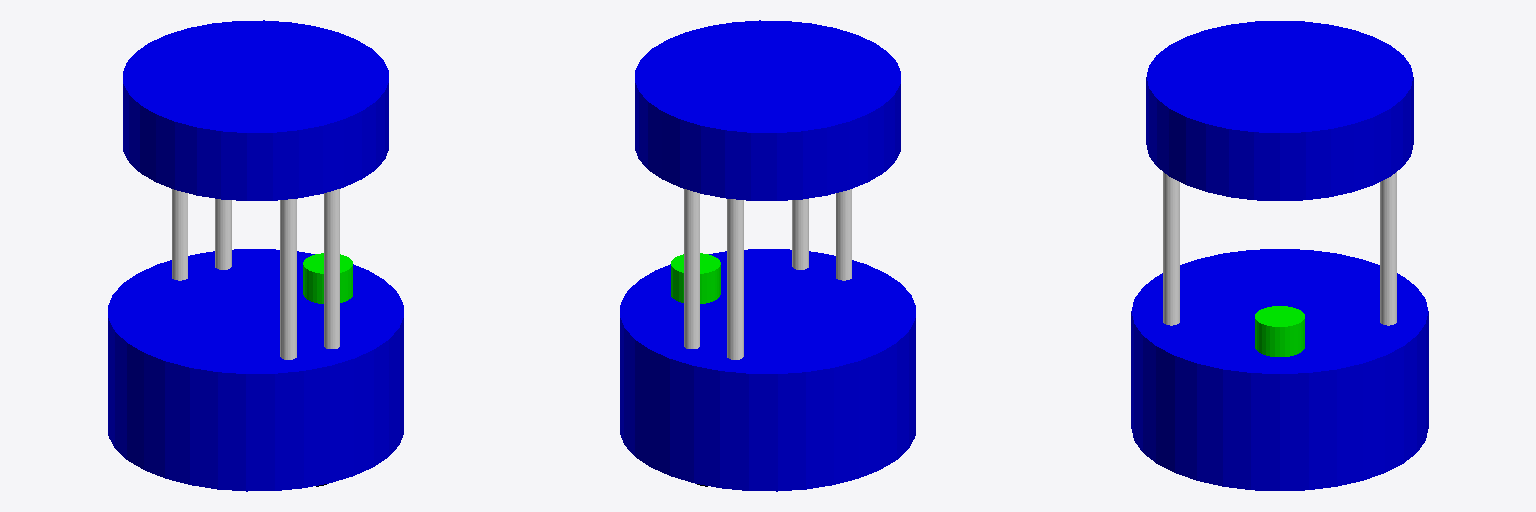
robot.urdf — barista_bot:
<?xml version="1.0" ?>
<robot name="barista_bot">
  <material name="Blue">
    <color rgba="0.0 0.0 1.0 1"/>
  </material>
  <material name="White">
    <color rgba="1 1 1 1"/>
  </material>
  <material name="Black">
    <color rgba="0 0 0 1"/>
  </material>
  <material name="Red">
    <color rgba="1 0 0 1"/>
  </material>
  <material name="Green">
    <color rgba="0 1 0 1"/>
  </material>

  <link name="base_link"/>
  <link name="base_plate_link">
    <visual>
      <geometry>
        <cylinder length="0.155" radius="0.178"/>
      </geometry>
      <material name="Blue"/>
    </visual>
    <collision>
      <geometry>
        <cylinder length="0.155" radius="0.178"/>
      </geometry>
    </collision>
    <inertial>
      <mass value="0.8"/>
      <origin rpy="0 0 0" xyz="0 0 0"/>
      <inertia ixx="0.007938466666666666" ixy="0" ixz="0" iyy="0.007938466666666666" iyz="0" izz="0.0126736"/>
    </inertial>
  </link>
  <gazebo reference="base_plate_link">
    <material>Gazebo/Blue</material>
  </gazebo>
  <joint name="base_link_joint" type="fixed">
    <origin rpy="0 0 0" xyz="0 0 0"/>
    <parent link="base_link"/>
    <child link="base_plate_link"/>
  </joint>
  <link name="standoff_rods1_link">
    <visual>
      <geometry>
        <cylinder length="0.22" radius="0.01"/>
      </geometry>
      <material name="White"/>
    </visual>
    <collision>
      <geometry>
        <cylinder length="0.22" radius="0.01"/>
      </geometry>
    </collision>
    <inertial>
      <mass value="0.1"/>
      <origin rpy="0 0 0" xyz="0 0 0"/>
      <inertia ixx="0.00040583333333333335" ixy="0" ixz="0" iyy="0.00040583333333333335" iyz="0" izz="5e-06"/>
    </inertial>
  </link>
  <gazebo reference="standoff_rods1_link">
    <material>Gazebo/White</material>
  </gazebo>
  <link name="standoff_rods2_link">
    <visual>
      <geometry>
        <cylinder length="0.22" radius="0.01"/>
      </geometry>
      <material name="White"/>
    </visual>
    <collision>
      <geometry>
        <cylinder length="0.22" radius="0.01"/>
      </geometry>
    </collision>
    <inertial>
      <mass value="0.1"/>
      <origin rpy="0 0 0" xyz="0 0 0"/>
      <inertia ixx="0.00040583333333333335" ixy="0" ixz="0" iyy="0.00040583333333333335" iyz="0" izz="5e-06"/>
    </inertial>
  </link>
  <gazebo reference="standoff_rods2_link">
    <material>Gazebo/White</material>
  </gazebo>
  <link name="standoff_rods3_link">
    <visual>
      <geometry>
        <cylinder length="0.22" radius="0.01"/>
      </geometry>
      <material name="White"/>
    </visual>
    <collision>
      <geometry>
        <cylinder length="0.22" radius="0.01"/>
      </geometry>
    </collision>
    <inertial>
      <mass value="0.1"/>
      <origin rpy="0 0 0" xyz="0 0 0"/>
      <inertia ixx="0.00040583333333333335" ixy="0" ixz="0" iyy="0.00040583333333333335" iyz="0" izz="5e-06"/>
    </inertial>
  </link>
  <gazebo reference="standoff_rods3_link">
    <material>Gazebo/White</material>
  </gazebo>
  <link name="standoff_rods4_link">
    <visual>
      <geometry>
        <cylinder length="0.22" radius="0.01"/>
      </geometry>
      <material name="White"/>
    </visual>
    <collision>
      <geometry>
        <cylinder length="0.22" radius="0.01"/>
      </geometry>
    </collision>
    <inertial>
      <mass value="0.1"/>
      <origin rpy="0 0 0" xyz="0 0 0"/>
      <inertia ixx="0.00040583333333333335" ixy="0" ixz="0" iyy="0.00040583333333333335" iyz="0" izz="5e-06"/>
    </inertial>
  </link>
  <gazebo reference="standoff_rods4_link">
    <material>Gazebo/White</material>
  </gazebo>
  <!-- Standoff Rods Joints-->
  <joint name="standoff_rods1_joint" type="fixed">
    <origin rpy="0 0 0" xyz="0.03 0.13 0.1875"/>
    <parent link="base_plate_link"/>
    <child link="standoff_rods1_link"/>
  </joint>
  <joint name="standoff_rods2_joint" type="fixed">
    <origin rpy="0 0 0" xyz="-0.03 0.13 0.1875"/>
    <parent link="base_plate_link"/>
    <child link="standoff_rods2_link"/>
  </joint>
  <joint name="standoff_rods3_joint" type="fixed">
    <origin rpy="0 0 0" xyz="-0.03 -0.13 0.1875"/>
    <parent link="base_plate_link"/>
    <child link="standoff_rods3_link"/>
  </joint>
  <joint name="standoff_rods4_joint" type="fixed">
    <origin rpy="0 0 0" xyz="0.03 -0.13 0.1875"/>
    <parent link="base_plate_link"/>
    <child link="standoff_rods4_link"/>
  </joint>

  <link name="cup_holder_tray_link">
    <visual>
      <geometry>
        <cylinder length="0.09" radius="0.16"/>
      </geometry>
      <material name="Blue"/>
    </visual>
    <collision>
      <geometry>
        <cylinder length="0.09" radius="0.16"/>
      </geometry>
    </collision>
    <inertial>
      <mass value="0.05"/>
      <origin rpy="0 0 0" xyz="0 0 0"/>
      <inertia ixx="0.00035375" ixy="0" ixz="0" iyy="0.00035375" iyz="0" izz="0.00064"/>
    </inertial>
  </link>
  <gazebo reference="cup_holder_tray_link">
    <material>Gazebo/Blue</material>
  </gazebo>
  <joint name="cup_holder_tray_joint" type="fixed">
    <origin rpy="0 0 0" xyz="0 0 0.3425"/>
    <parent link="base_plate_link"/>
    <child link="cup_holder_tray_link"/>
  </joint>
  <!-- Two wheels -->
  <link name="left_wheel_link">
    <visual>
      <geometry>
        <cylinder length="0.0206" radius="0.0352"/>
      </geometry>
      <material name="Black"/>
    </visual>
    <collision>
      <geometry>
        <cylinder length="0.0206" radius="0.0352"/>
      </geometry>
    </collision>
    <inertial>
      <mass value="0.07"/>
      <origin rpy="0 0 0" xyz="0 0 0"/>
      <inertia ixx="2.4158633333333336e-05" ixy="0" ixz="0" iyy="2.4158633333333336e-05" iyz="0" izz="4.3366400000000005e-05"/>
    </inertial>
  </link>
  <gazebo reference="left_wheel_link">
    <material>Gazebo/Black</material>
  </gazebo>
  <link name="right_wheel_link">
    <visual>
      <geometry>
        <cylinder length="0.0206" radius="0.0352"/>
      </geometry>
      <material name="Black"/>
    </visual>
    <collision>
      <geometry>
        <cylinder length="0.0206" radius="0.0352"/>
      </geometry>
    </collision>
    <inertial>
      <mass value="0.07"/>
      <origin rpy="0 0 0" xyz="0 0 0"/>
      <inertia ixx="2.4158633333333336e-05" ixy="0" ixz="0" iyy="2.4158633333333336e-05" iyz="0" izz="4.3366400000000005e-05"/>
    </inertial>
  </link>
  <gazebo reference="right_wheel_link">
    <material>Gazebo/Black</material>
  </gazebo>
  <!-- Wheel Left and Right Joints-->
  <joint name="left_wheel_joint" type="continuous">
    <parent link="base_plate_link"/>
    <child link="left_wheel_link"/>
    <origin rpy="-1.57 0 0" xyz="0.0 0.15 -0.053"/>
    <axis rpy="0 0 0" xyz="0 0 1"/>
    <limit effort="10000" velocity="1000"/>
    <joint_properties damping="1.0" friction="1.0"/>
  </joint>
  <joint name="right_wheel_joint" type="continuous">
    <parent link="base_plate_link"/>
    <child link="right_wheel_link"/>
    <origin rpy="-1.57 0 0" xyz="0.0 -0.15 -0.053"/>
    <axis rpy="0 0 0" xyz="0 0 1"/>
    <limit effort="10000" velocity="1000"/>
    <joint_properties damping="1.0" friction="1.0"/>
  </joint>
  <gazebo>
    <plugin filename="libgazebo_ros_diff_drive.so" name="barista_bot_differential_drive_controller">
      <!-- wheels -->
      <left_joint>left_wheel_joint</left_joint>
      <right_joint>right_wheel_joint</right_joint>
      <!-- kinematics -->
      <wheel_separation>0.3</wheel_separation>
      <wheel_diameter>0.0704</wheel_diameter>
      <!-- limits -->
      <max_wheel_torque>1.0</max_wheel_torque>
      <max_wheel_acceleration>2.0</max_wheel_acceleration>
      <!-- output -->
      <publish_odom>true</publish_odom>
      <publish_odom_tf>true</publish_odom_tf>
      <odometry_frame>odom</odometry_frame>
      <robot_base_frame>base_link</robot_base_frame>
    </plugin>
  </gazebo>
  
  <!-- Caster Wheels -->
  <link name="front_roll_link">
    <visual>
      <origin rpy="1.5707 0 1.5707" xyz="0 0 0"/>
      <geometry>
        <cylinder length="0.005" radius="0.015"/>
      </geometry>
      <material name="Red"/>
    </visual>
    <collision>
      <geometry>
        <cylinder length="0.005" radius="0.015"/>
      </geometry>
    </collision>
    <inertial>
      <mass value="0.0015"/>
      <origin rpy="1.5707 0 1.5707" xyz="0 0 0"/>
      <inertia ixx="8.75e-08" ixy="0" ixz="0" iyy="8.75e-08" iyz="0" izz="1.6875e-07"/>
    </inertial>
  </link>
  <gazebo reference="front_roll_link">
    <material>Gazebo/Red</material>
  </gazebo>
  <link name="front_pitch_link">
    <visual>
      <origin rpy="0 0 0" xyz="0 0 0"/>
      <geometry>
        <sphere radius="0.015"/>
      </geometry>
      <material name="Green"/>
    </visual>
    <collision>
      <geometry>
        <sphere radius="0.015"/>
      </geometry>
    </collision>
    <inertial>
      <origin rpy="0 0 0" xyz="0 0 0"/>
      <mass value="0.002"/>
      <inertia ixx="1.8e-07" ixy="0" ixz="0" iyy="1.8e-07" iyz="0" izz="1.8e-07"/>
    </inertial>
  </link>
  <gazebo reference="front_pitch_link">
    <material>Gazebo/Green</material>
  </gazebo>
  <link name="front_yaw_link">
    <visual>
      <origin rpy="0 0 0" xyz="0 0 0"/>
      <geometry>
        <cylinder length="0.005" radius="0.015"/>
      </geometry>
      <material name="Blue"/>
    </visual>
    <collision>
      <geometry>
        <cylinder length="0.005" radius="0.015"/>
      </geometry>
    </collision>
    <inertial>
      <mass value="0.0015"/>
      <origin rpy="0 0 0" xyz="0 0 0"/>
      <inertia ixx="8.75e-08" ixy="0" ixz="0" iyy="8.75e-08" iyz="0" izz="1.6875e-07"/>
    </inertial>
  </link>
  <gazebo reference="front_yaw_link">
    <material>Gazebo/Blue</material>
  </gazebo>
  <joint name="front_yaw_joint" type="continuous">
    <origin rpy="0 0 0" xyz="0.15 0 -0.073"/>
    <parent link="base_plate_link"/>
    <child link="front_yaw_link"/>
    <axis xyz="0 0 1"/>
    <limit effort="1000.0" velocity="100.0"/>
    <dynamics damping="0.0" friction="0.1"/>
  </joint>
  <joint name="front_roll_joint" type="continuous">
    <origin rpy="0 0 0" xyz="0 0 0"/>
    <parent link="front_yaw_link"/>
    <child link="front_roll_link"/>
    <axis xyz="1 0 0"/>
    <limit effort="1000.0" velocity="100.0"/>
    <dynamics damping="0.0" friction="0.1"/>
  </joint>
  <joint name="front_pitch_joint" type="continuous">
    <origin rpy="0 0 0" xyz="0 0 0"/>
    <parent link="front_roll_link"/>
    <child link="front_pitch_link"/>
    <axis xyz="0 1 0"/>
    <limit effort="1000.0" velocity="100.0"/>
    <dynamics damping="0.0" friction="0.1"/>
  </joint>
  <link name="back_roll_link">
    <visual>
      <origin rpy="1.5707 0 1.5707" xyz="0 0 0"/>
      <geometry>
        <cylinder length="0.005" radius="0.015"/>
      </geometry>
      <material name="Red"/>
    </visual>
    <collision>
      <geometry>
        <cylinder length="0.005" radius="0.015"/>
      </geometry>
    </collision>
    <inertial>
      <mass value="0.0015"/>
      <origin rpy="1.5707 0 1.5707" xyz="0 0 0"/>
      <inertia ixx="8.75e-08" ixy="0" ixz="0" iyy="8.75e-08" iyz="0" izz="1.6875e-07"/>
    </inertial>
  </link>
  <gazebo reference="back_roll_link">
    <material>Gazebo/Red</material>
  </gazebo>
  <link name="back_pitch_link">
    <visual>
      <origin rpy="0 0 0" xyz="0 0 0"/>
      <geometry>
        <sphere radius="0.015"/>
      </geometry>
      <material name="Green"/>
    </visual>
    <collision>
      <geometry>
        <sphere radius="0.015"/>
      </geometry>
    </collision>
    <inertial>
      <origin rpy="0 0 0" xyz="0 0 0"/>
      <mass value="0.002"/>
      <inertia ixx="1.8e-07" ixy="0" ixz="0" iyy="1.8e-07" iyz="0" izz="1.8e-07"/>
    </inertial>
  </link>
  <gazebo reference="back_pitch_link">
    <material>Gazebo/Green</material>
  </gazebo>
  <link name="back_yaw_link">
    <visual>
      <origin rpy="0 0 0" xyz="0 0 0"/>
      <geometry>
        <cylinder length="0.005" radius="0.015"/>
      </geometry>
      <material name="Blue"/>
    </visual>
    <collision>
      <geometry>
        <cylinder length="0.005" radius="0.015"/>
      </geometry>
    </collision>
    <inertial>
      <mass value="0.0015"/>
      <origin rpy="0 0 0" xyz="0 0 0"/>
      <inertia ixx="8.75e-08" ixy="0" ixz="0" iyy="8.75e-08" iyz="0" izz="1.6875e-07"/>
    </inertial>
  </link>
  <gazebo reference="back_yaw_link">
    <material>Gazebo/Blue</material>
  </gazebo>
  <joint name="back_yaw_joint" type="continuous">
    <origin rpy="0 0 0" xyz="-0.15 0 -0.073"/>
    <parent link="base_plate_link"/>
    <child link="back_yaw_link"/>
    <axis xyz="0 0 1"/>
    <limit effort="1000.0" velocity="100.0"/>
    <dynamics damping="0.0" friction="0.1"/>
  </joint>
  <joint name="back_roll_joint" type="continuous">
    <origin rpy="0 0 0" xyz="0 0 0"/>
    <parent link="back_yaw_link"/>
    <child link="back_roll_link"/>
    <axis xyz="1 0 0"/>
    <limit effort="1000.0" velocity="100.0"/>
    <dynamics damping="0.0" friction="0.1"/>
  </joint>
  <joint name="back_pitch_joint" type="continuous">
    <origin rpy="0 0 0" xyz="0 0 0"/>
    <parent link="back_roll_link"/>
    <child link="back_pitch_link"/>
    <axis xyz="0 1 0"/>
    <limit effort="1000.0" velocity="100.0"/>
    <dynamics damping="0.0" friction="0.1"/>
  </joint>
  
  <!-- Laser Scanner visual representation -->
  <link name="laser_scanner_link">
    <visual>
      <geometry>
        <cylinder length="0.040" radius="0.03"/>
      </geometry>
      <material name="Green"/>
    </visual>
    <collision>
      <geometry>
        <cylinder length="0.040" radius="0.03"/>
      </geometry>
    </collision>
    <inertial>
      <mass value="0.01"/>
      <origin rpy="0 0 0" xyz="0 0 0"/>
      <inertia ixx="3.583333333333333e-06" ixy="0" ixz="0" iyy="3.583333333333333e-06" iyz="0" izz="4.5e-06"/>
    </inertial>
  </link>
  <gazebo reference="laser_scanner_link">
    <material>Gazebo/Green</material>
  </gazebo>
  <joint name="laser_scanner_joint" type="fixed">
    <origin rpy="0 0 0" xyz="0.10 0.0 0.0975"/>
    <parent link="base_plate_link"/>
    <child link="laser_scanner_link"/>
  </joint>
  <!-- Laser Scanner - representation of laser rays -->
  <link name="laser_scanner_ray_link"/>
  <joint name="laser_scanner_ray_joint" type="fixed">
    <origin rpy="0 0 0" xyz="0.0 0.0 0.0"/>
    <parent link="laser_scanner_link"/>
    <child link="laser_scanner_ray_link"/>
  <!-- Laser Scanner - Gazebo Plugin -->
  </joint><gazebo reference="laser_scanner_ray_link">
    <sensor name="sensor_ray" type="ray">
      <pose>0 0 0 0 0 0</pose>
      <ray>
        <scan>
          <horizontal>
            <samples>720</samples>
            <resolution>0.5</resolution>
            <min_angle>-3.1416</min_angle>
            <max_angle>3.1416</max_angle>
          </horizontal>
        </scan>
        <range>
          <min>0.07</min>
          <max>10.0</max>
          <resolution>0.01</resolution>
        </range>
      </ray>
      <always_on>true</always_on>
      <visualize>true</visualize>
      <update_rate>50.0</update_rate>
      <plugin filename="libgazebo_ros_ray_sensor.so" name="laser">
        <ros>
          <!-- <namespace>/barista_bot</namespace> -->
          <remapping>~/out:=scan</remapping>
        </ros>
        <output_type>sensor_msgs/LaserScan</output_type>
        <frame_name>laser_scanner_ray_link</frame_name>
      </plugin>
    </sensor>
  </gazebo>

  <gazebo>
    <plugin filename="libgazebo_ros_joint_state_publisher.so" name="barista_bot_joint_state_publisher">
      <ros>
        <remapping>~/out:=joint_states</remapping>
      </ros>
      <update_rate>50</update_rate>
      <joint_name>left_wheel_joint</joint_name>
      <joint_name>right_wheel_joint</joint_name>
      <joint_name>front_roll_joint</joint_name>
      <joint_name>front_pitch_joint</joint_name>
      <joint_name>front_yaw_joint</joint_name>
      <joint_name>back_roll_joint</joint_name>
      <joint_name>back_pitch_joint</joint_name>
      <joint_name>back_yaw_joint</joint_name>
    </plugin>
  </gazebo>
</robot>

--- Render facts (derived) ---
The picture shows the robot from 3 angles, left to right: view 1: azimuth 30°, elevation 25°; view 2: azimuth 150°, elevation 25°; view 3: azimuth 270°, elevation 25°; orthographic projection.
Robot: barista_bot — 17 links, 16 joints (8 continuous, 8 fixed); root link base_link; default pose: every joint at zero.
Links seen in each view (by area): view 1: base_plate_link, cup_holder_tray_link, standoff_rods3_link, standoff_rods4_link, laser_scanner_link, standoff_rods2_link, standoff_rods1_link; view 2: base_plate_link, cup_holder_tray_link, standoff_rods2_link, standoff_rods1_link, laser_scanner_link, standoff_rods3_link, standoff_rods4_link; view 3: base_plate_link, cup_holder_tray_link, standoff_rods1_link, standoff_rods4_link, laser_scanner_link.
Link boxes in pixels (x1,y1,x2,y2): base_plate_link: (108, 249, 403, 491); cup_holder_tray_link: (123, 20, 388, 200); standoff_rods3_link: (280, 199, 296, 359); standoff_rods4_link: (324, 189, 339, 348); laser_scanner_link: (303, 253, 352, 303); standoff_rods2_link: (172, 189, 187, 280); standoff_rods1_link: (215, 199, 231, 269); base_plate_link: (620, 249, 915, 491); cup_holder_tray_link: (635, 20, 900, 200); standoff_rods2_link: (727, 199, 743, 359); standoff_rods1_link: (684, 189, 699, 348); laser_scanner_link: (671, 253, 720, 303); standoff_rods3_link: (836, 189, 851, 280); standoff_rods4_link: (792, 199, 808, 269); base_plate_link: (1131, 249, 1428, 490); cup_holder_tray_link: (1146, 21, 1413, 200); standoff_rods1_link: (1380, 172, 1396, 325); standoff_rods4_link: (1163, 172, 1179, 325); laser_scanner_link: (1255, 306, 1304, 356).
Bounding box of the posed robot: 0.356 × 0.356 × 0.4757 m (x, y, z).
Geometry: primitives only (box / cylinder / sphere), no mesh files.
